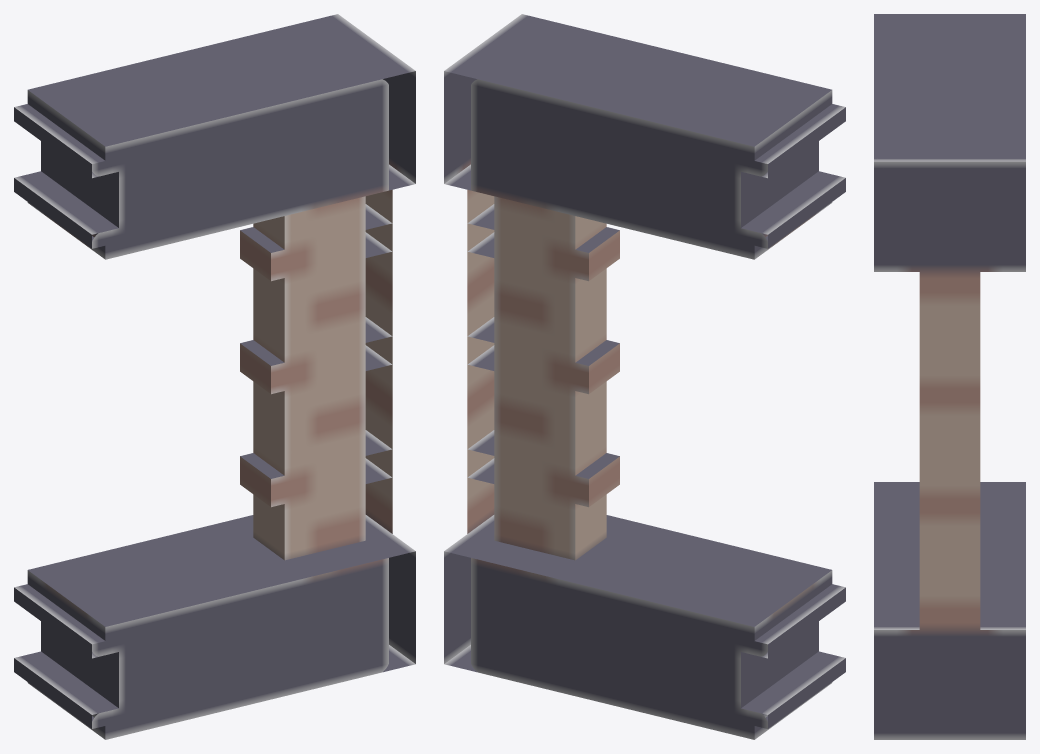
File: bridge_end.fbx
The picture shows the model from 3 angles, left to right: view 1: azimuth 30°, elevation 25°; view 2: azimuth 150°, elevation 25°; view 3: azimuth 270°, elevation 25°; orthographic projection. The views are drawn at different scales.
Parts seen in each view (by area): view 1: generated; view 2: generated; view 3: generated.
Part boxes in pixels (bbox=[...]): generated: bbox=[14, 14, 415, 739]; generated: bbox=[444, 14, 845, 739]; generated: bbox=[874, 14, 1025, 739].
Size of the model in its own units: 120 by 210 by 50.
